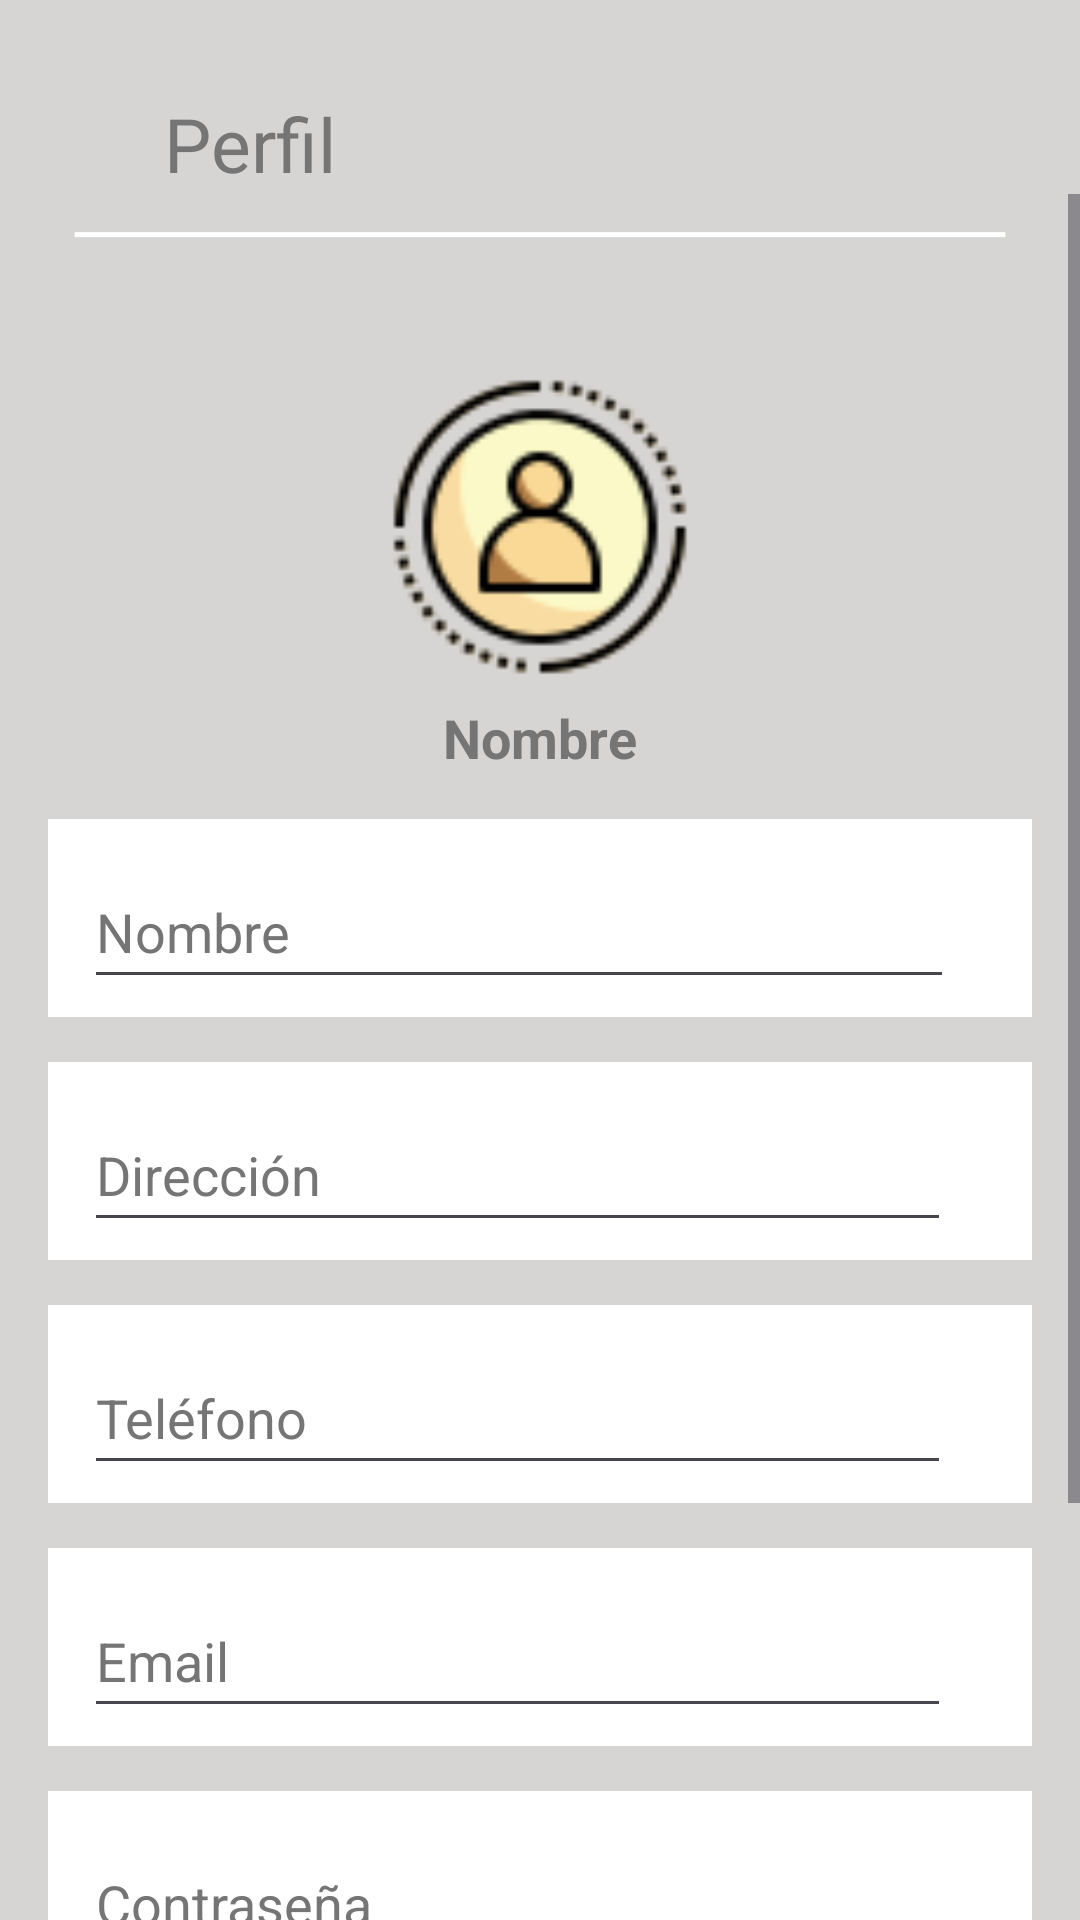

Screen size 1080px x 1920px. Icon name, then its box in pixels as {"x1": x1, "y1": y1, "x2": x2, "y2": y2}:
Imagen de perfil: {"x1": 393, "y1": 380, "x2": 687, "y2": 674}
